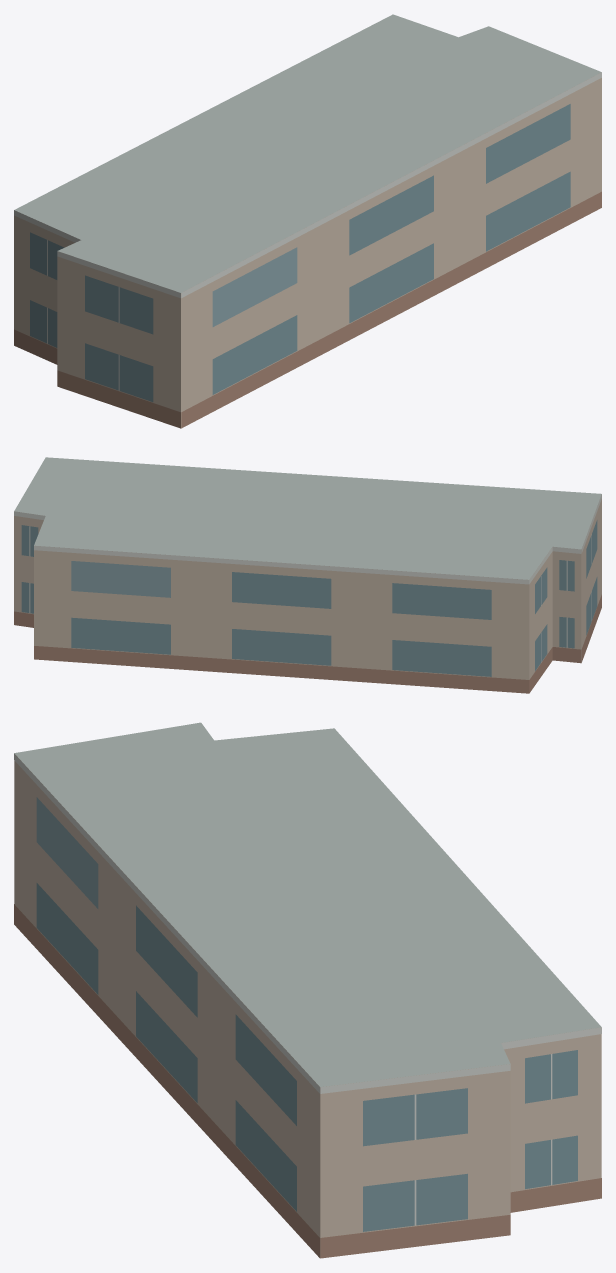
Rendered from survey-upis-32849898.glb.
3 renders of one model, top to bottom at view 1: azimuth 30°, elevation 25°; view 2: azimuth 150°, elevation 25°; view 3: azimuth 270°, elevation 25°, orthographic. The views are drawn at different scales.
Visible parts, largest first — view 1: survey-upis-32849898.tmp; view 2: survey-upis-32849898.tmp; view 3: survey-upis-32849898.tmp.
Part boxes in pixels (x1,y1,x2,y2): survey-upis-32849898.tmp: [14, 14, 601, 428]; survey-upis-32849898.tmp: [14, 457, 601, 693]; survey-upis-32849898.tmp: [14, 722, 601, 1258].
Bounding box in the file's own units: 27.87 × 6.1 × 18.98.
